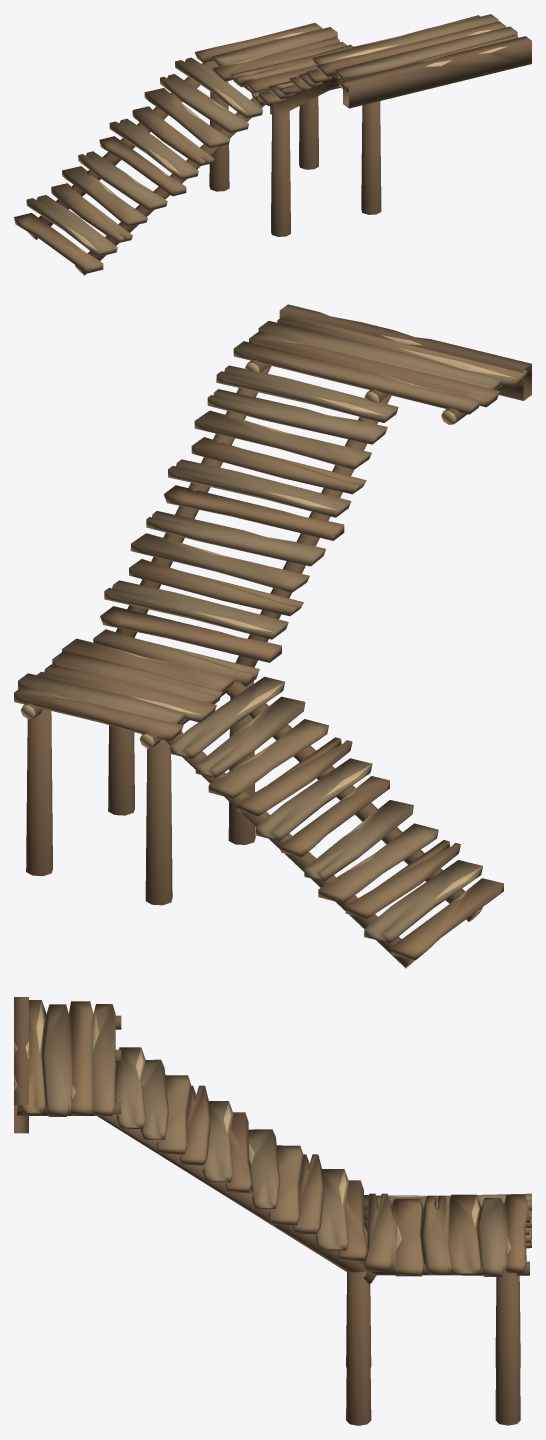
Rendered from rpgpp_ag_stairs_interior_01c_4m.fbx.
3 renders of one model, top to bottom at view 1: azimuth 30°, elevation 25°; view 2: azimuth 150°, elevation 25°; view 3: azimuth 270°, elevation 25°, orthographic. The views are drawn at different scales.
Parts seen in each view (by area): view 1: rpgpp_ag_stairs_interior_01c_4m; view 2: rpgpp_ag_stairs_interior_01c_4m; view 3: rpgpp_ag_stairs_interior_01c_4m.
Boxes of the visible parts, x1,y1,x2,y2 form: rpgpp_ag_stairs_interior_01c_4m: (14,14,531,275); rpgpp_ag_stairs_interior_01c_4m: (14,304,531,968); rpgpp_ag_stairs_interior_01c_4m: (14,997,531,1425).
Size of the model in its own units: 4.88 by 4.18 by 5.87.
